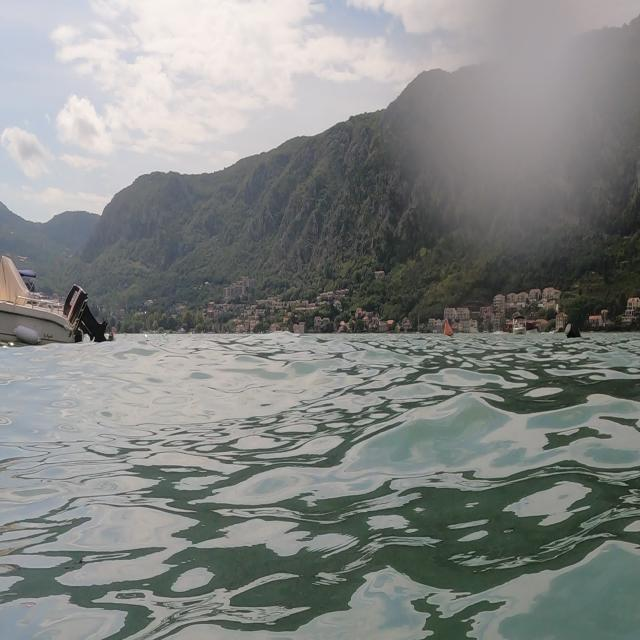boat: (1, 250, 111, 350)
buoy: (556, 319, 586, 347), (436, 313, 462, 341)
